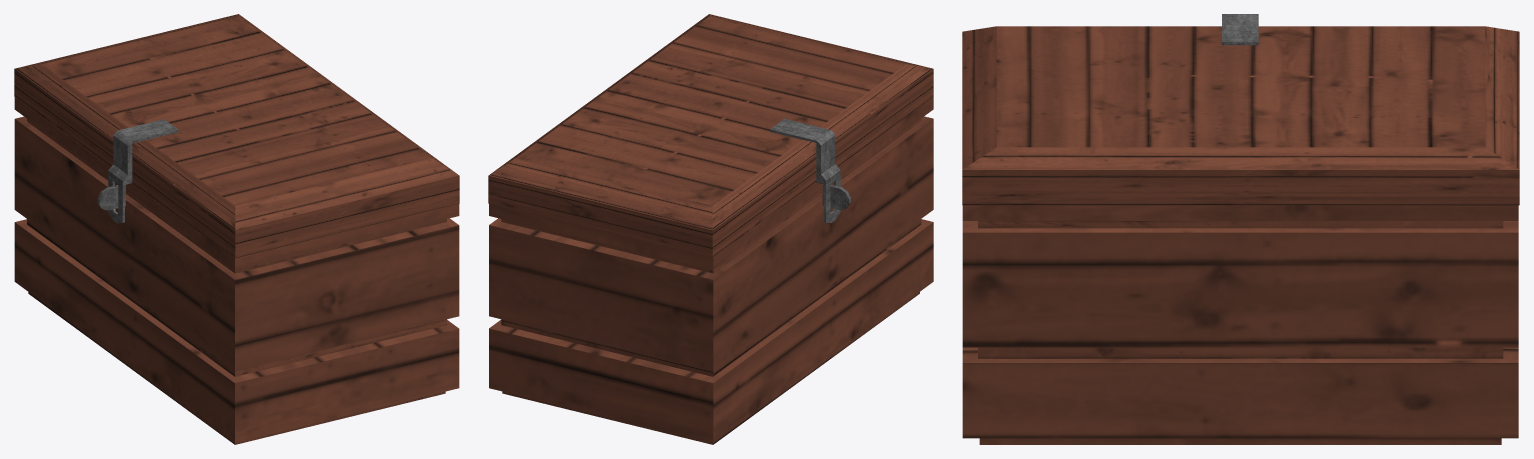
Rendered from chest.fbx.
3 views of the same model, side by side, from view 1: azimuth 30°, elevation 25°; view 2: azimuth 150°, elevation 25°; view 3: azimuth 270°, elevation 25° (orthographic). The views are drawn at different scales.
Visible parts, largest first — view 1: Main, Top; view 2: Main, Top; view 3: Main, Top.
Boxes of the visible parts, <box> form: Main: <box>14,97,459,444</box>; Top: <box>14,14,459,258</box>; Main: <box>489,97,933,444</box>; Top: <box>488,14,933,258</box>; Main: <box>962,205,1518,444</box>; Top: <box>962,14,1519,205</box>.
Size of the model in its own units: 2.24 by 2 by 3.41.
